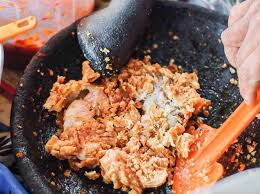ayam_geprek: (47, 54, 216, 187)
